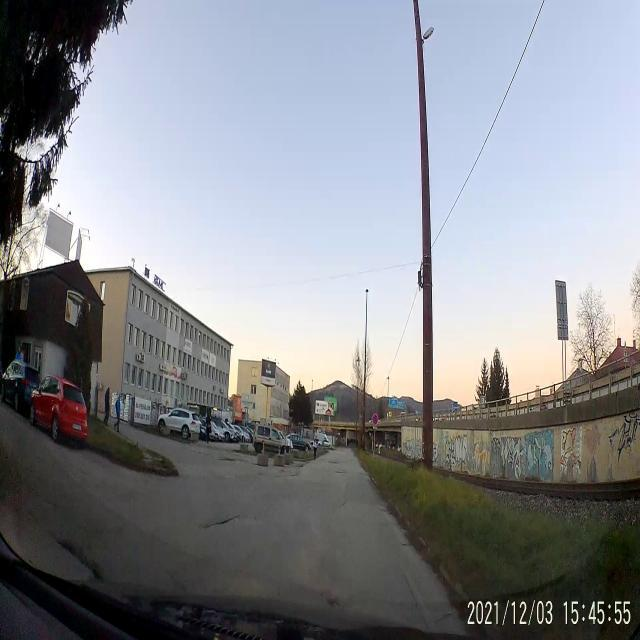Pothole: (200, 516, 238, 530)
